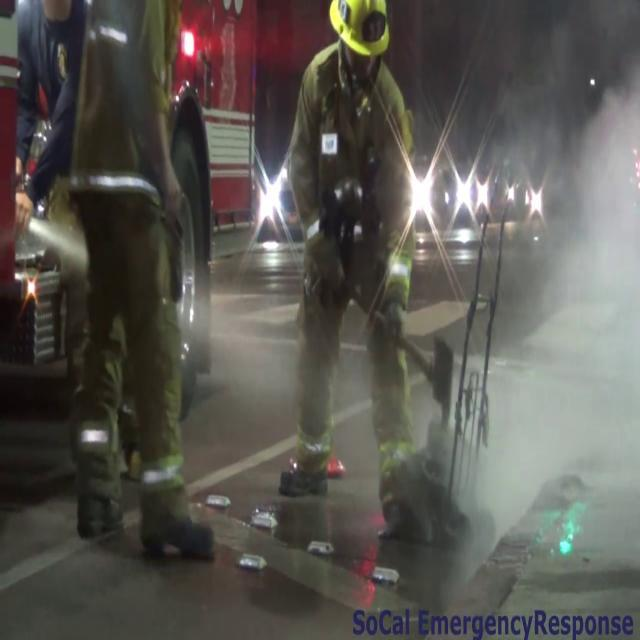Smoke: (520, 87, 640, 506)
